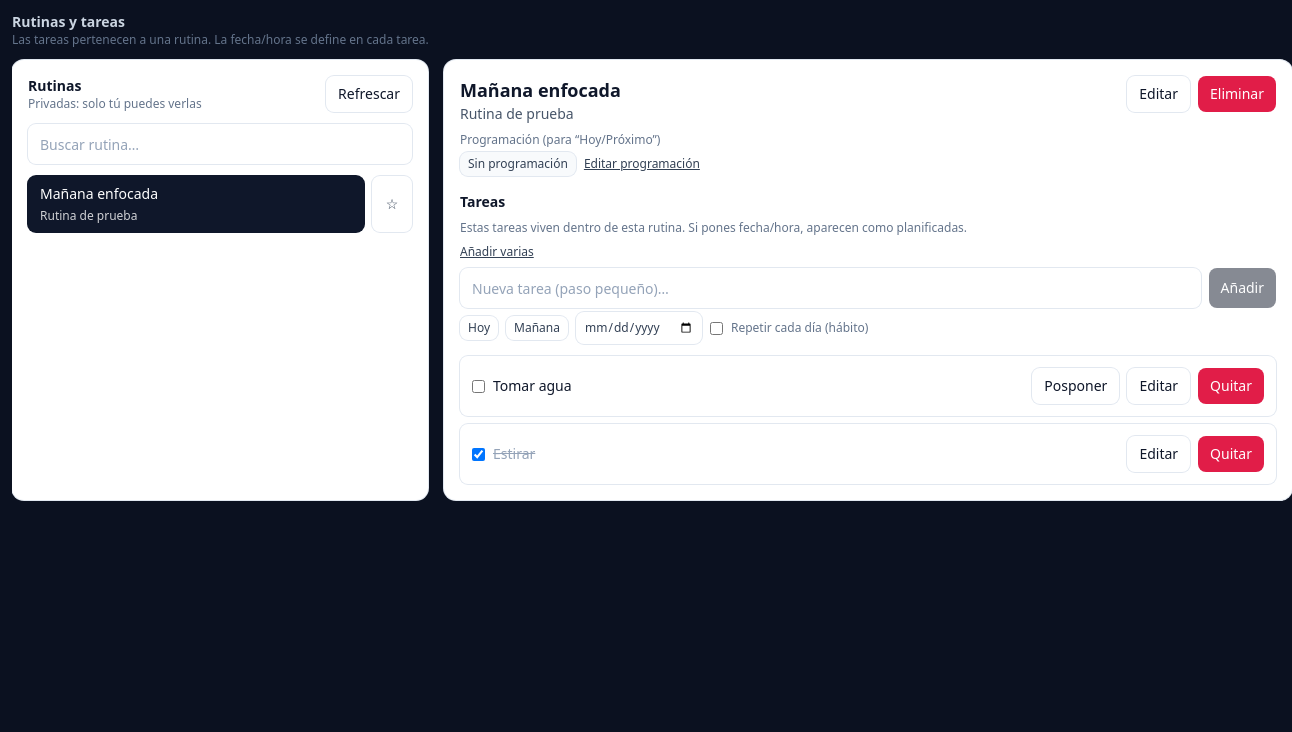
it: RoutinePanel with a selected routine › checking "Repetir cada día" clears a previously picked quick-capture date
The width and height of the screenshot is (1292, 732).
Expected: the heading "Mañana enfocada" is shown, [460,78,621,102]
Click the button "Hoy" at point(479, 328), box [460,316,498,340]
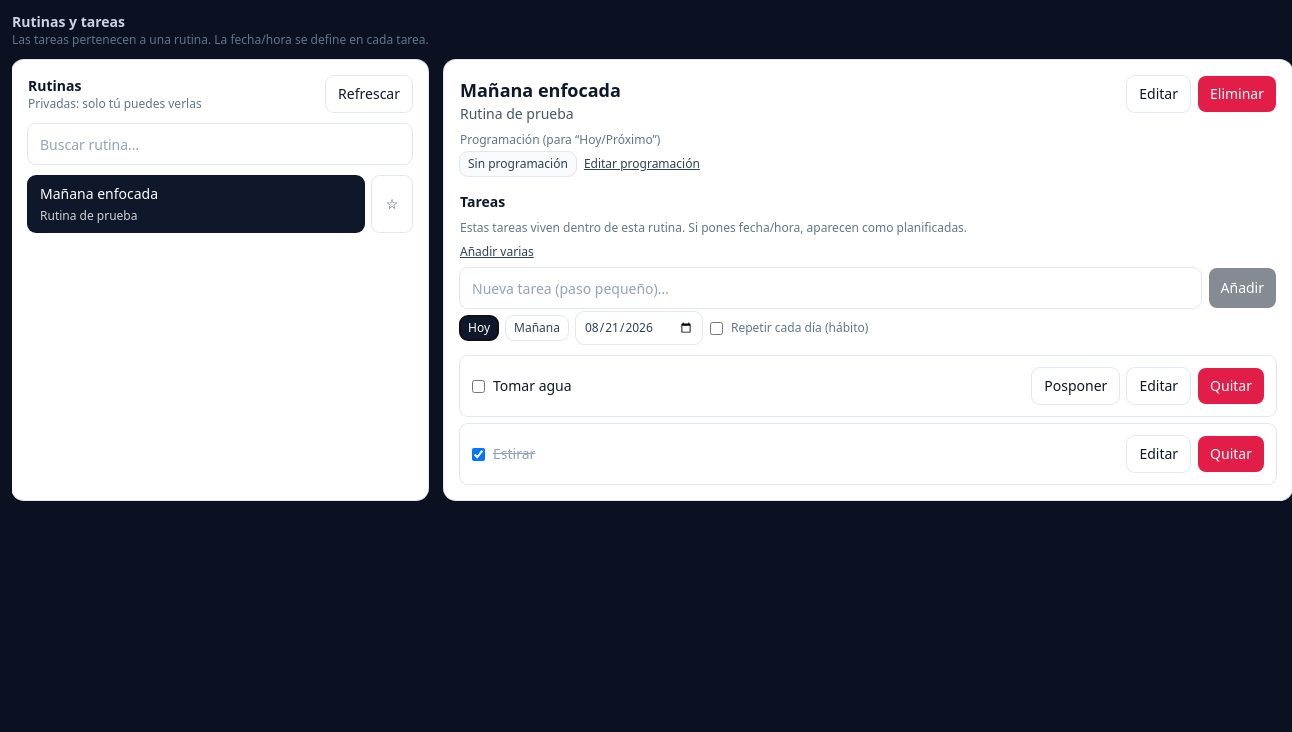
Click the checkbox labelled "Repetir cada día (hábito)" at point(716, 328), box [710,322,723,334]
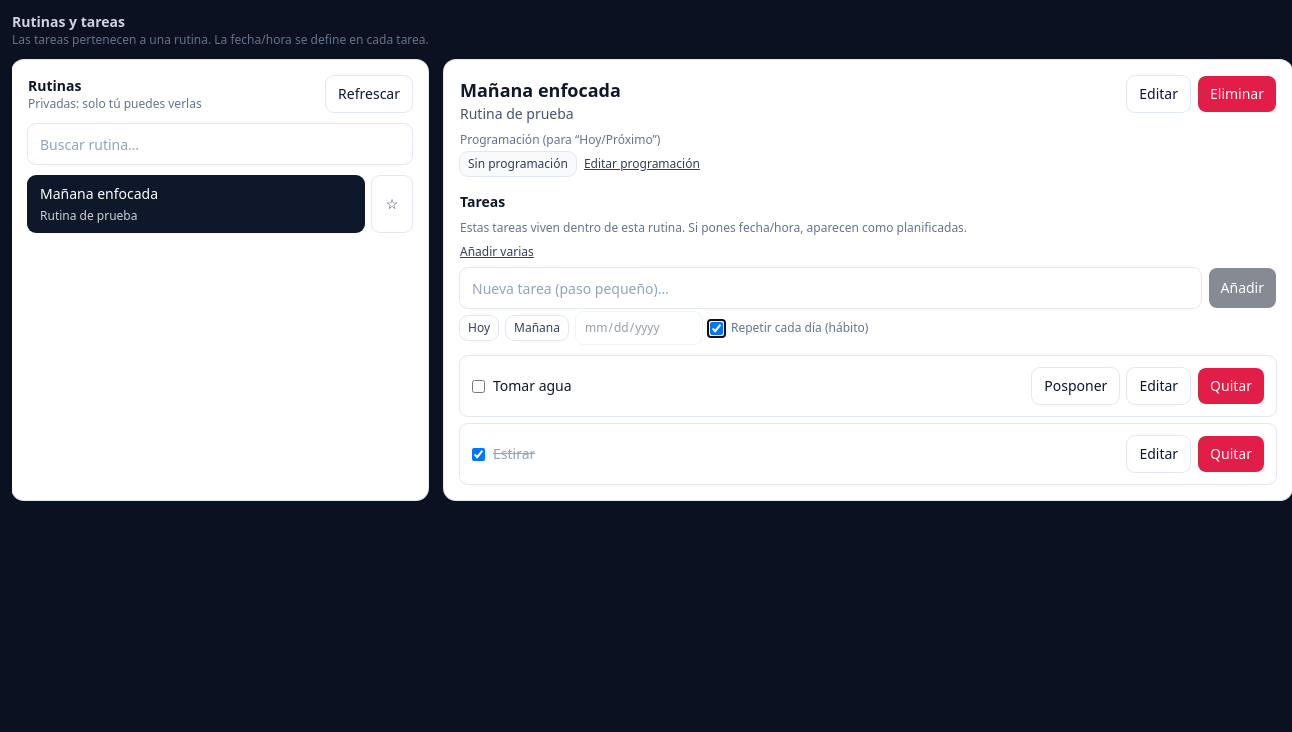
Result: the date field named "Elegir fecha para la tarea" is empty at [576,312,702,344]
Result: the date field named "Elegir fecha para la tarea" is disabled at [576,312,702,344]
